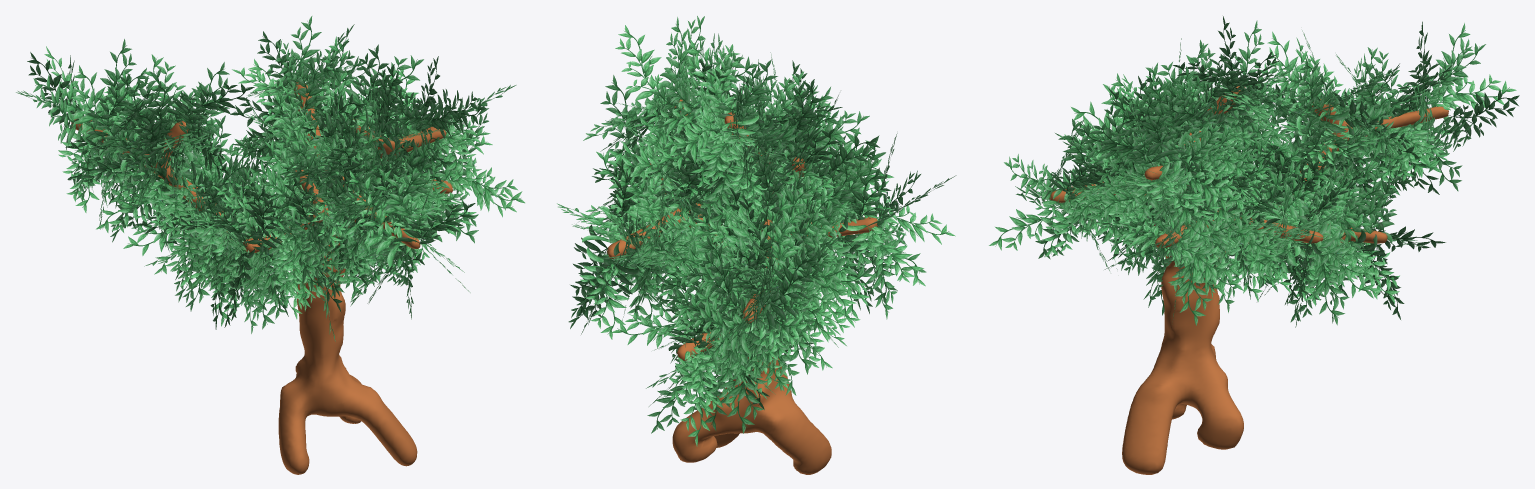
Rendered from Árbol uno.fbx.
The picture shows the model from 3 angles, left to right: view 1: azimuth 30°, elevation 25°; view 2: azimuth 150°, elevation 25°; view 3: azimuth 270°, elevation 25°; orthographic projection. The views are drawn at different scales.
Visible parts, largest first — view 1: Tronco, Tronco|Foto Ramas|Dupli|510, Tronco|Foto Ramas|Dupli|26, Tronco|Foto Ramas|Dupli|531, Tronco|Foto Ramas|Dupli|605, Tronco|Foto Ramas|Dupli|5, Tronco|Foto Ramas|Dupli|256, Tronco|Foto Ramas|Dupli|190, Tronco|Foto Ramas|Dupli|525, Tronco|Foto Ramas|Dupli|109, Tronco|Foto Ramas|Dupli|529, Tronco|Foto Ramas|Dupli|377 (+62 smaller); view 2: Tronco, Tronco|Foto Ramas|Dupli|5, Tronco|Foto Ramas|Dupli|, Tronco|Foto Ramas|Dupli|402, Tronco|Foto Ramas|Dupli|35, Tronco|Foto Ramas|Dupli|598, Tronco|Foto Ramas|Dupli|329, Tronco|Foto Ramas|Dupli|203, Tronco|Foto Ramas|Dupli|412, Tronco|Foto Ramas|Dupli|195, Tronco|Foto Ramas|Dupli|100, Tronco|Foto Ramas|Dupli|8 (+82 smaller); view 3: Tronco, Tronco|Foto Ramas|Dupli|393, Tronco|Foto Ramas|Dupli|596, Tronco|Foto Ramas|Dupli|604, Tronco|Foto Ramas|Dupli|533, Tronco|Foto Ramas|Dupli|581, Tronco|Foto Ramas|Dupli|603, Tronco|Foto Ramas|Dupli|, Tronco|Foto Ramas|Dupli|392, Tronco|Foto Ramas|Dupli|586, Tronco|Foto Ramas|Dupli|10, Tronco|Foto Ramas|Dupli|587 (+50 smaller).
Boxes of the visible parts, <box> form: Tronco: <box>71,82,452,474</box>; Tronco|Foto Ramas|Dupli|510: <box>345,170,406,269</box>; Tronco|Foto Ramas|Dupli|26: <box>96,181,184,232</box>; Tronco|Foto Ramas|Dupli|531: <box>374,168,442,242</box>; Tronco|Foto Ramas|Dupli|605: <box>442,154,524,210</box>; Tronco|Foto Ramas|Dupli|5: <box>33,75,82,152</box>; Tronco|Foto Ramas|Dupli|256: <box>269,90,322,166</box>; Tronco|Foto Ramas|Dupli|190: <box>282,56,327,143</box>; Tronco|Foto Ramas|Dupli|525: <box>393,202,475,244</box>; Tronco|Foto Ramas|Dupli|109: <box>159,82,254,121</box>; Tronco|Foto Ramas|Dupli|529: <box>381,144,434,224</box>; Tronco|Foto Ramas|Dupli|377: <box>330,55,423,114</box>; Tronco: <box>607,99,877,474</box>; Tronco|Foto Ramas|Dupli|5: <box>760,253,821,330</box>; Tronco|Foto Ramas|Dupli|: <box>675,294,751,353</box>; Tronco|Foto Ramas|Dupli|402: <box>579,247,629,339</box>; Tronco|Foto Ramas|Dupli|35: <box>757,195,803,302</box>; Tronco|Foto Ramas|Dupli|598: <box>615,25,666,113</box>; Tronco|Foto Ramas|Dupli|329: <box>691,115,759,188</box>; Tronco|Foto Ramas|Dupli|203: <box>841,223,925,286</box>; Tronco|Foto Ramas|Dupli|412: <box>596,150,672,219</box>; Tronco|Foto Ramas|Dupli|195: <box>659,101,733,169</box>; Tronco|Foto Ramas|Dupli|100: <box>770,161,818,262</box>; Tronco|Foto Ramas|Dupli|8: <box>703,235,744,332</box>; Tronco: <box>1049,86,1448,474</box>; Tronco|Foto Ramas|Dupli|393: <box>1305,217,1349,325</box>; Tronco|Foto Ramas|Dupli|596: <box>1075,122,1178,166</box>; Tronco|Foto Ramas|Dupli|604: <box>1170,218,1212,325</box>; Tronco|Foto Ramas|Dupli|533: <box>989,197,1081,250</box>; Tronco|Foto Ramas|Dupli|581: <box>1074,180,1173,224</box>; Tronco|Foto Ramas|Dupli|603: <box>1167,221,1243,293</box>; Tronco|Foto Ramas|Dupli|: <box>1448,89,1519,138</box>; Tronco|Foto Ramas|Dupli|392: <box>1311,214,1374,298</box>; Tronco|Foto Ramas|Dupli|586: <box>1161,150,1245,211</box>; Tronco|Foto Ramas|Dupli|10: <box>1411,73,1516,110</box>; Tronco|Foto Ramas|Dupli|587: <box>1154,156,1212,244</box>.
Size of the model in its own units: 617 by 698 by 811.
